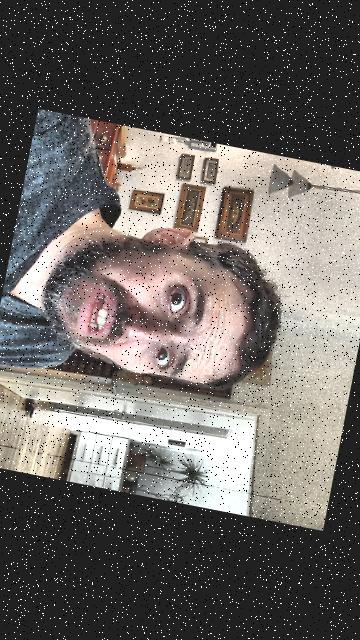fear: (16, 197, 300, 408)
